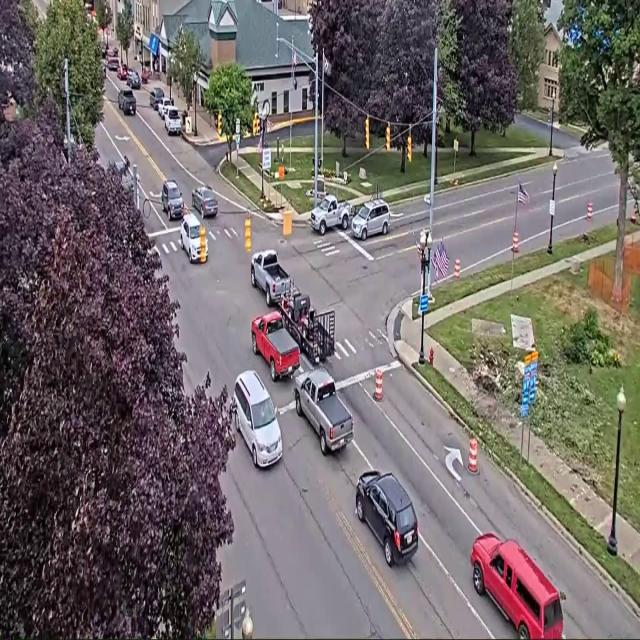car: (471, 534, 563, 639), (356, 471, 418, 567), (233, 370, 282, 467), (351, 199, 391, 240), (180, 214, 208, 263), (161, 180, 183, 220), (192, 186, 218, 217), (108, 159, 133, 191), (164, 106, 182, 135), (118, 88, 136, 115), (157, 96, 173, 119), (150, 87, 164, 110), (127, 70, 141, 89), (117, 64, 128, 80), (107, 57, 119, 71), (109, 47, 118, 57)
traffic signal: (245, 212, 251, 252), (200, 225, 206, 262), (217, 112, 223, 137), (253, 112, 259, 135), (407, 135, 412, 162), (365, 117, 369, 150), (386, 125, 390, 151), (548, 107, 551, 124)
truck: (294, 369, 353, 455), (279, 280, 334, 363), (252, 312, 299, 381), (251, 250, 290, 306), (310, 195, 351, 235)
